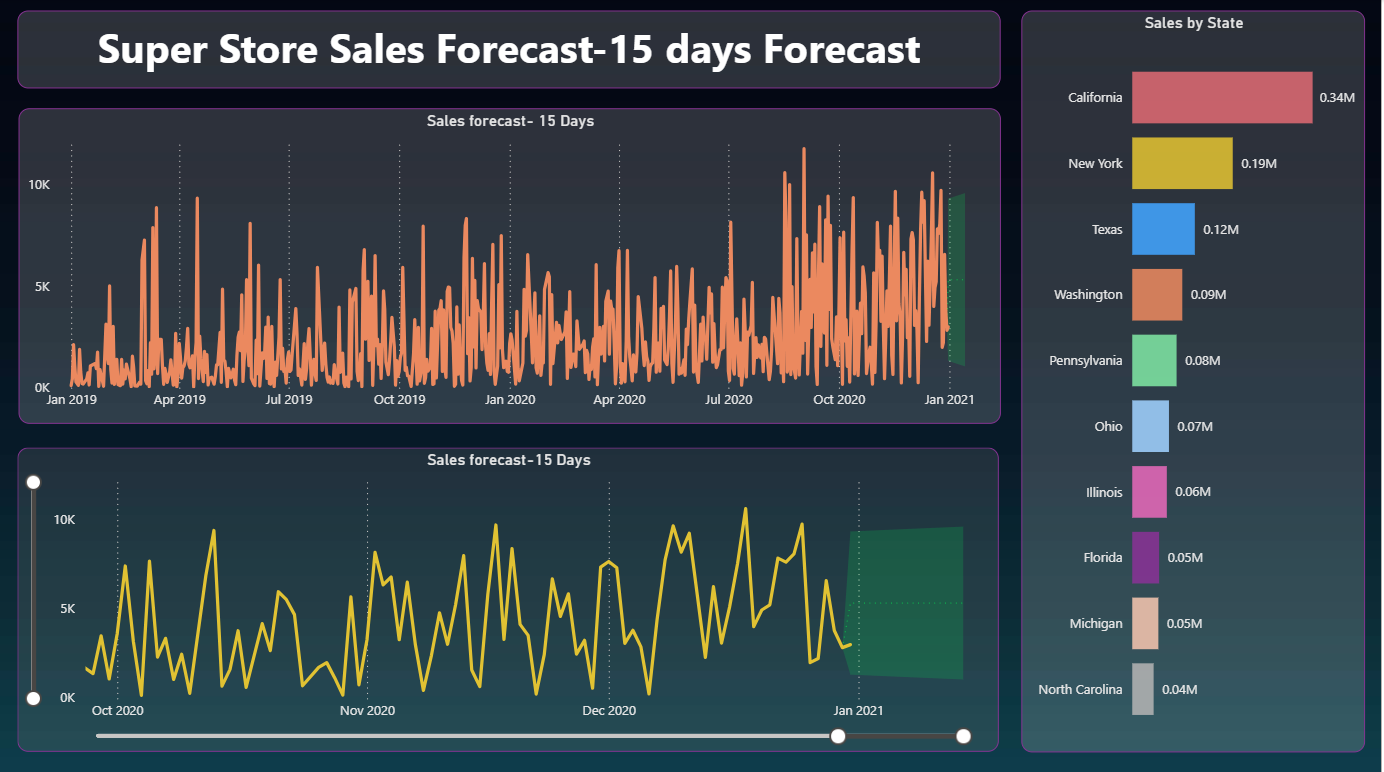

What the dashboard file says about the page in this screenshot:
{"tool":"powerbi","page":{"name":"Page 2","canvas":[1280,720],"ordinal":1},"visuals":[{"type":"lineChart","title":"Sales forecast-15 Days","fields":{"Y":["Sum(SuperStore_Sales_Dataset (2).Sales)"],"Category":["SuperStore_Sales_Dataset (2).Order Date"]},"box":[17.5,414.9,908.7,282],"z":0},{"type":"lineChart","title":"Sales forecast- 15 Days","fields":{"Y":["Sum(SuperStore_Sales_Dataset (2).Sales)"],"Category":["SuperStore_Sales_Dataset (2).Order Date"]},"box":[18.3,101.1,909.7,292.5],"z":1000},{"type":"clusteredBarChart","title":"Sales by State","fields":{"Y":["Sum(SuperStore_Sales_Dataset (2).Sales)"],"Category":["SuperStore_Sales_Dataset (2).State"]},"box":[946.6,10.6,318.4,686.8],"z":2000},{"type":"textbox","box":[11.8,0,12.9,91.4],"z":3000},{"type":"textbox","box":[17.2,10.8,910.8,72],"z":4000}]}

Visuals, with their boxes in screenshot pixels (x1, y1, x2, y2), scaled from the page's 1280x720 canvas onto the 1384x772 screenshot:
"Sales forecast-15 Days" lineChart: [x1=19, y1=445, x2=1001, y2=747]
"Sales forecast- 15 Days" lineChart: [x1=20, y1=108, x2=1003, y2=422]
"Sales by State" clusteredBarChart: [x1=1024, y1=11, x2=1368, y2=748]
textbox: [x1=13, y1=0, x2=27, y2=98]
textbox: [x1=19, y1=12, x2=1003, y2=89]
